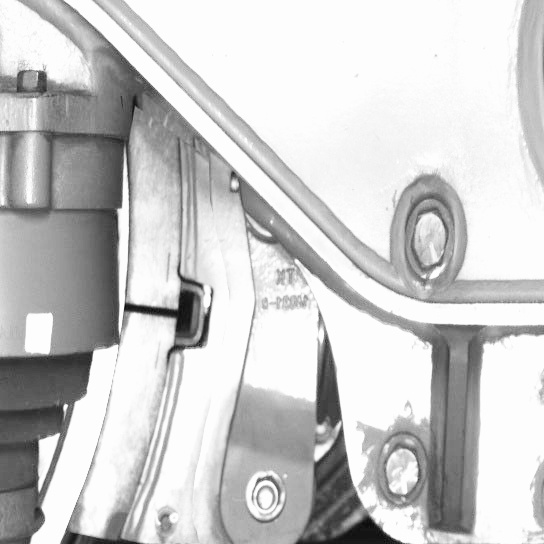ClosedKnifeSwitch: (59, 134, 179, 541)
